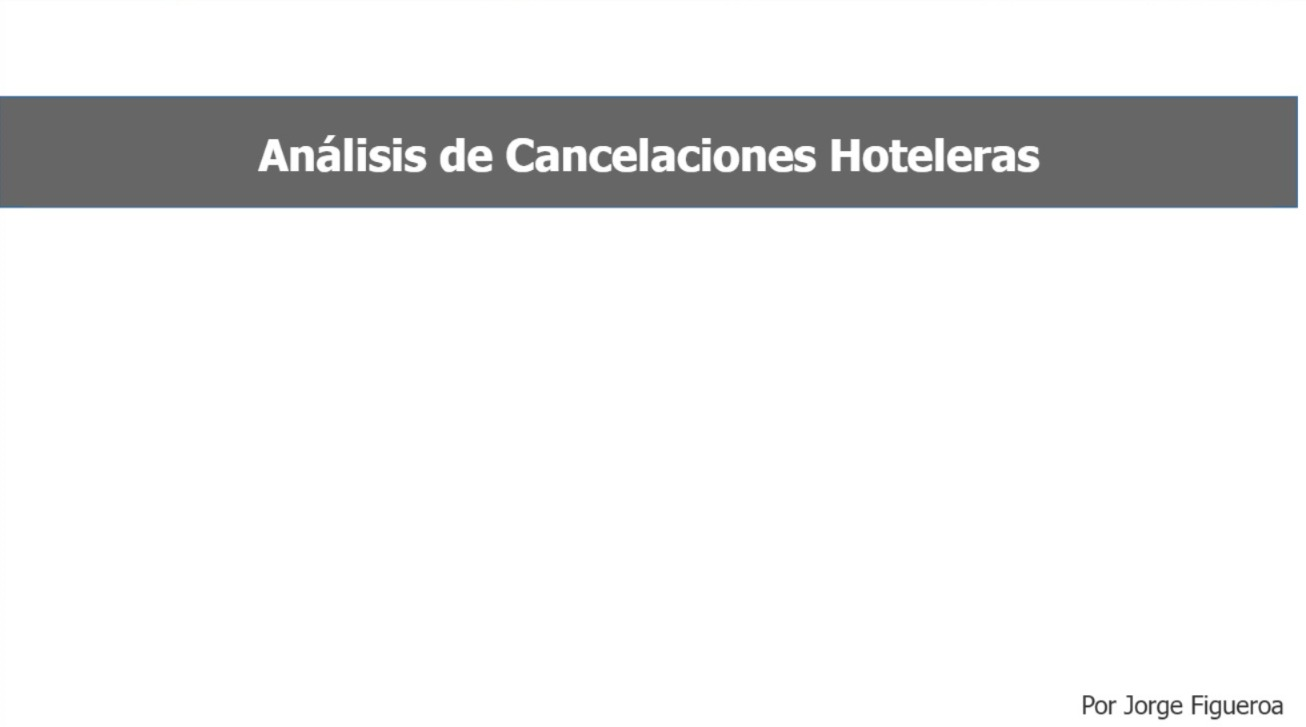

Layout of this report page (visuals, bound fields, positions):
{"tool":"powerbi","page":{"name":"Portada","canvas":[1280,720],"ordinal":0},"visuals":[{"type":"shape","box":[0,99.6,1270.5,108.8],"z":0,"group":"g1"},{"type":"textbox","box":[1043.1,675,218.9,45.2],"z":0},{"type":"group","id":"g1","title":"Grupo 1","box":[0,99.6,1270.5,108.8],"z":1000},{"type":"textbox","box":[24.5,124.7,1222.6,82.3],"z":1000,"group":"g1"}]}

Visuals, with their boxes in screenshot pixels (x1, y1, x2, y2), scaled from the page's 1280x720 canvas onto the 1306x727 screenshot:
shape: [x1=0, y1=101, x2=1296, y2=210]
textbox: [x1=1064, y1=682, x2=1288, y2=726]
"Grupo 1" group: [x1=0, y1=101, x2=1296, y2=210]
textbox: [x1=25, y1=126, x2=1272, y2=209]
